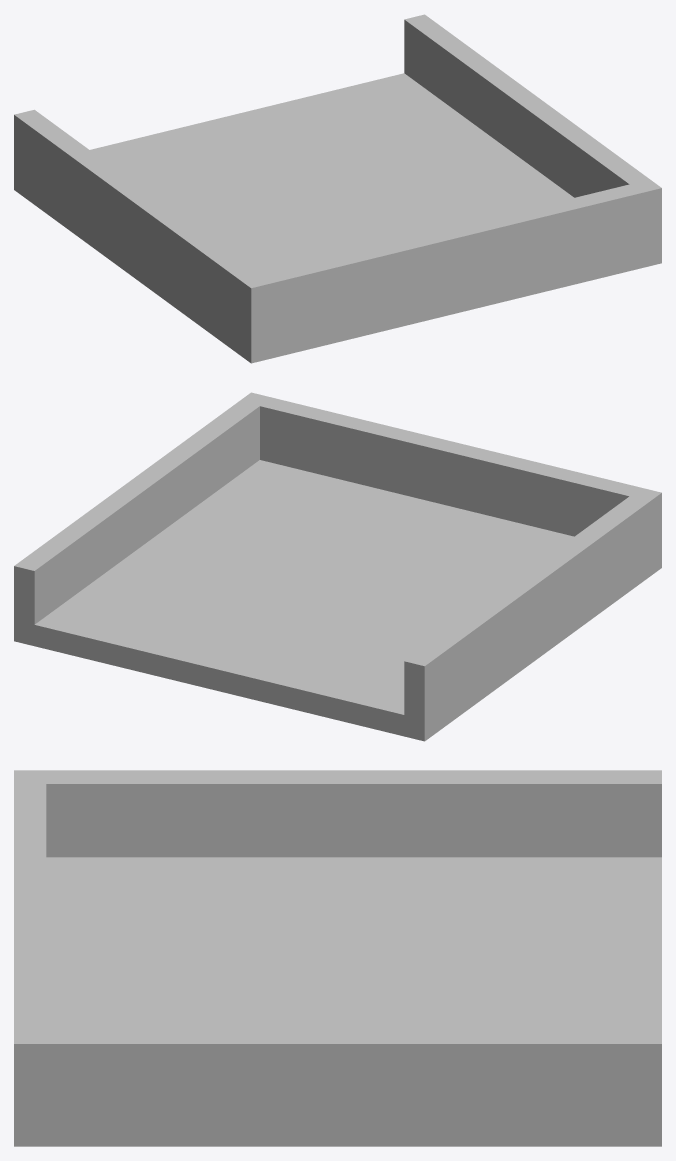
File: MetalRoof_3Edges.glb
3 renders of one model, top to bottom at view 1: azimuth 30°, elevation 25°; view 2: azimuth 150°, elevation 25°; view 3: azimuth 270°, elevation 25°, orthographic. The views are drawn at different scales.
Visible parts, largest first — view 1: roof_flat_3Edges_metal; view 2: roof_flat_3Edges_metal; view 3: roof_flat_3Edges_metal.
Part boxes in pixels (bbox=[...]): roof_flat_3Edges_metal: bbox=[14, 14, 661, 363]; roof_flat_3Edges_metal: bbox=[14, 392, 661, 741]; roof_flat_3Edges_metal: bbox=[14, 770, 661, 1146].
Size of what is drawn, in the model's own units: 4 by 0.7 by 4.
Materials: 1 (1 with a texture image).
